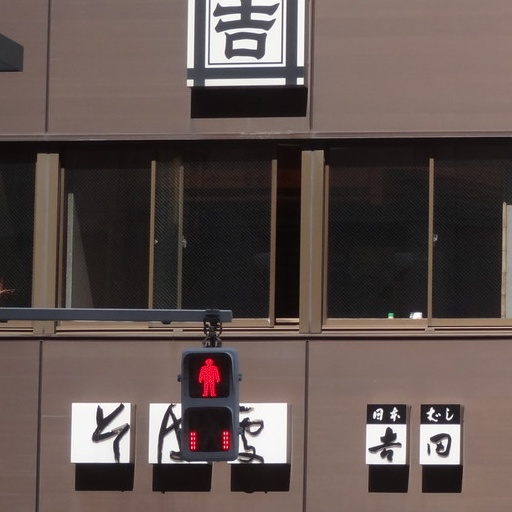Pedestrian_Signal_Red: (183, 339, 236, 460)
